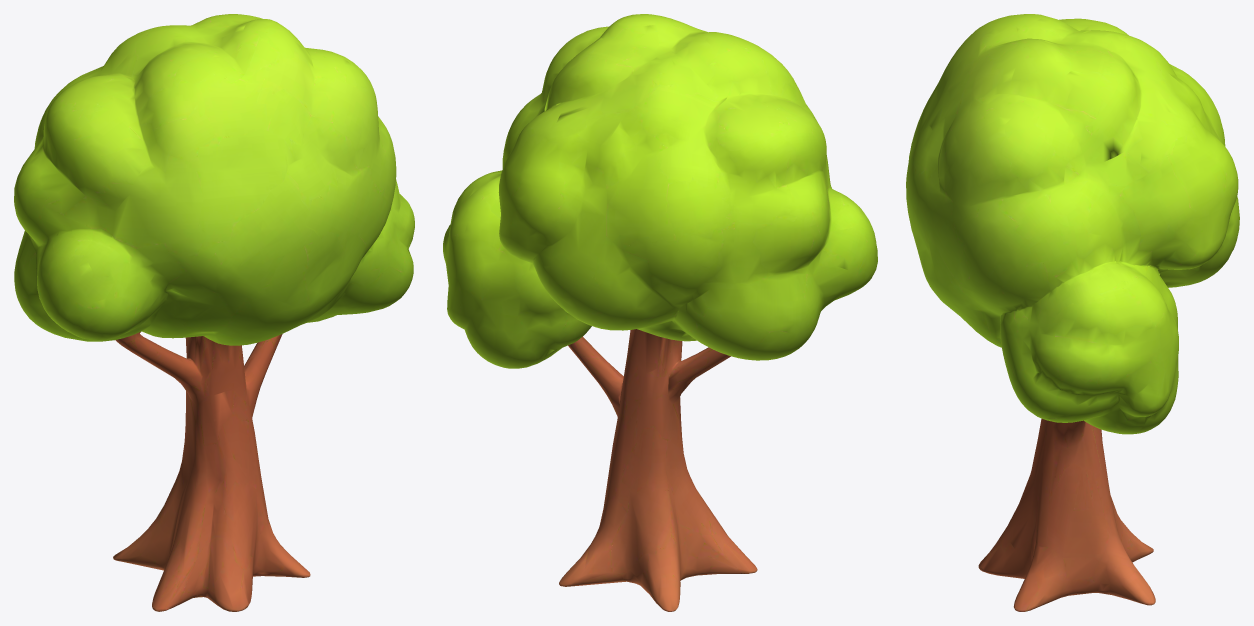
Rendered from tree.glb.
3 views of the same model, side by side, from view 1: azimuth 30°, elevation 25°; view 2: azimuth 150°, elevation 25°; view 3: azimuth 270°, elevation 25° (orthographic). The views are drawn at different scales.
Size of the model in its own units: 1.44 by 1.91 by 1.06.
Materials: 1 (1 with a texture image).
